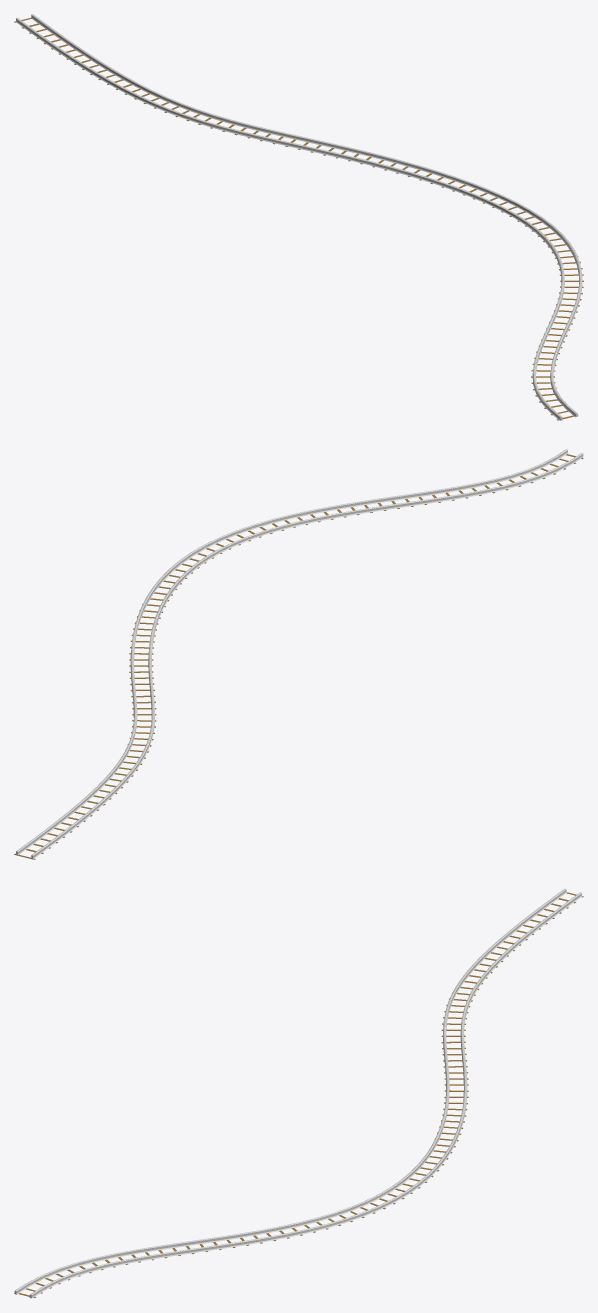
The model's file is right1.fbx.
The picture shows the model from 3 angles, top to bottom: view 1: azimuth 30°, elevation 25°; view 2: azimuth 150°, elevation 25°; view 3: azimuth 330°, elevation 25°; orthographic projection.
Parts seen in each view (by area): view 1: Top, Bot; view 2: Top, Bot; view 3: Top, Bot.
Part boxes in pixels (bbox=[...]): Top: bbox=[15, 14, 582, 420]; Bot: bbox=[14, 18, 583, 420]; Top: bbox=[15, 449, 583, 858]; Bot: bbox=[14, 454, 583, 859]; Top: bbox=[14, 888, 582, 1298]; Bot: bbox=[18, 892, 583, 1297].
Bounding box in the file's own units: 3151 × 58.2 × 15250.
